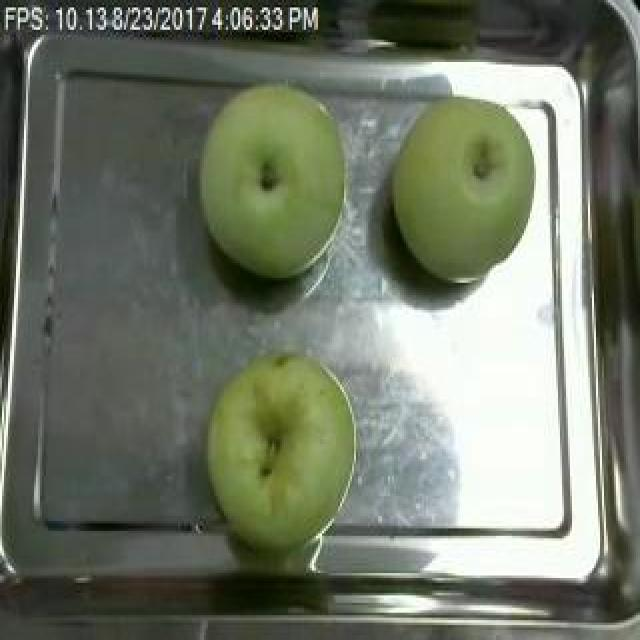Rotten Apple: (181, 339, 375, 579), (193, 52, 353, 298), (391, 78, 545, 302)
